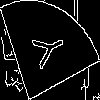Y: (25, 25, 68, 74)
